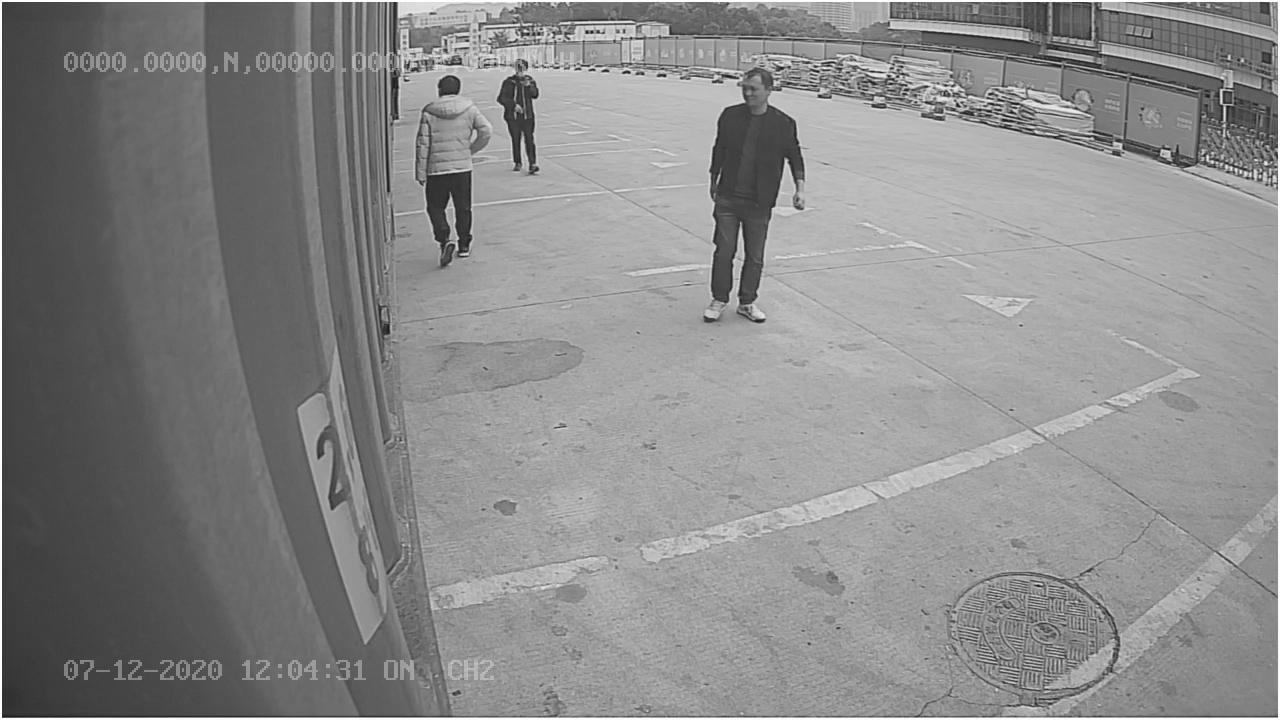person: (701, 63, 807, 326)
